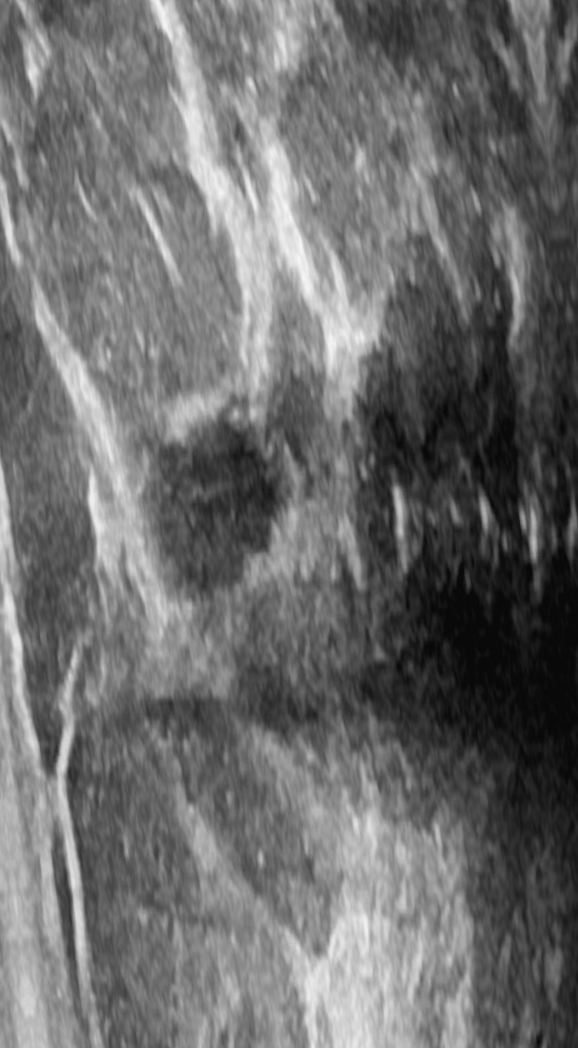Malignant: (140, 420, 286, 596)
